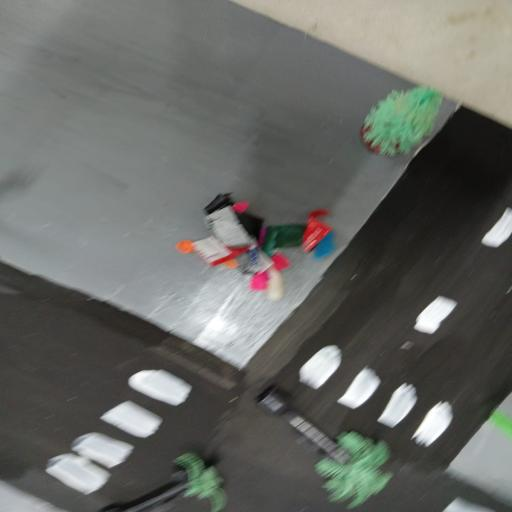fallen trees: (251, 383, 414, 512), (80, 450, 233, 512)
trash: (165, 188, 345, 306)
